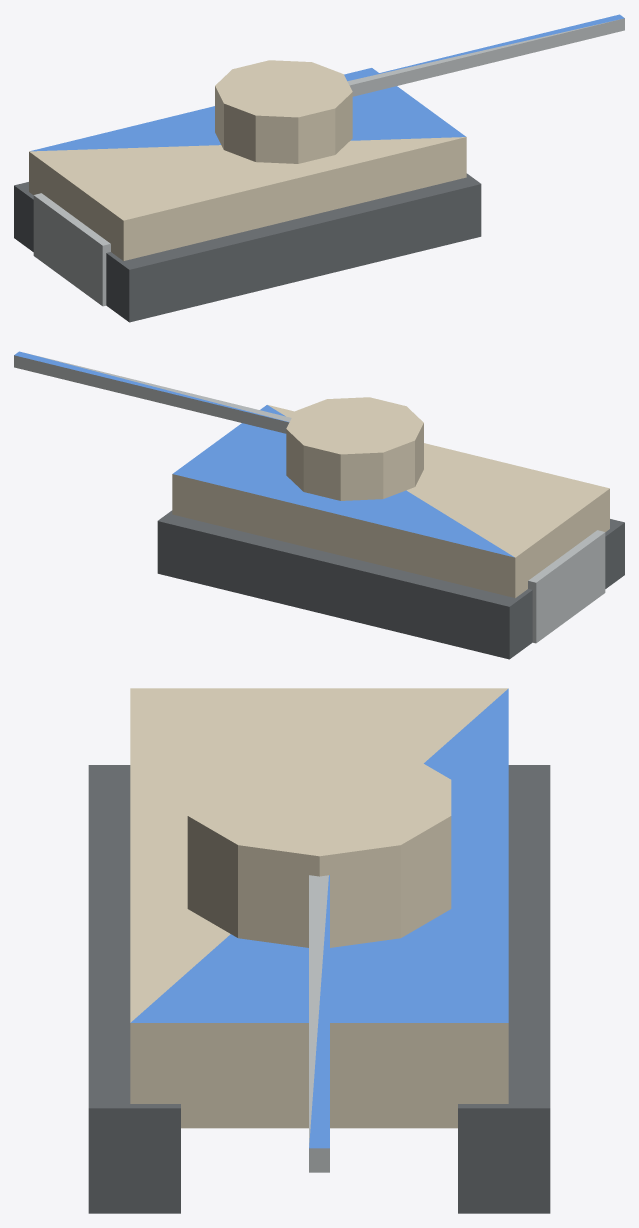
Rendered from meridian_siege_artillery.glb.
The picture shows the model from 3 angles, top to bottom: view 1: azimuth 30°, elevation 25°; view 2: azimuth 150°, elevation 25°; view 3: azimuth 270°, elevation 25°; orthographic projection. The views are drawn at different scales.
Visible parts, largest first — view 1: hull, turret, spade, barrel; view 2: hull, turret, spade, barrel; view 3: hull, turret, barrel.
Part boxes in pixels (box(x1,y1,x2,y2)): hull: box(14, 68, 481, 322); turret: box(215, 60, 352, 163); spade: box(33, 193, 110, 306); barrel: box(347, 14, 624, 96); hull: box(157, 405, 624, 659); turret: box(286, 397, 423, 500); spade: box(528, 530, 605, 643); barrel: box(14, 351, 291, 433); hull: box(88, 688, 550, 1213); turret: box(187, 739, 451, 947); barrel: box(309, 875, 329, 1172).
Bounding box in the file's own units: 8.6 × 2.07 × 3.1.
